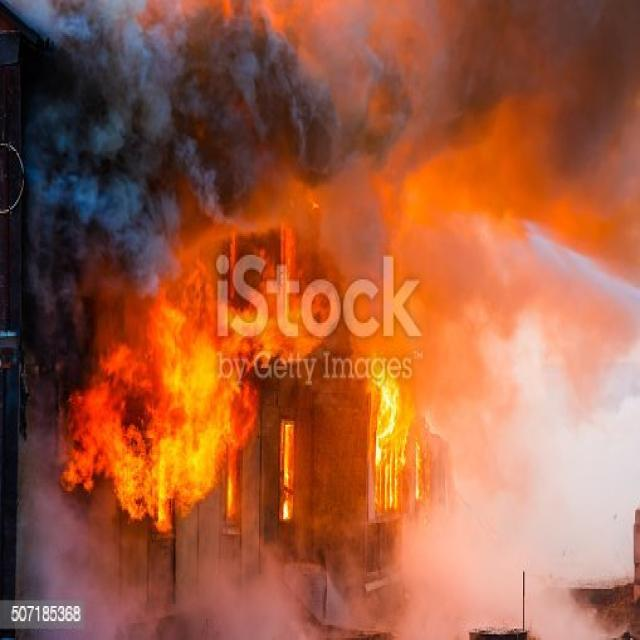Fire: (62, 240, 280, 528), (368, 357, 446, 522), (280, 421, 296, 522)
Smoke: (9, 0, 409, 228), (20, 537, 468, 640)
